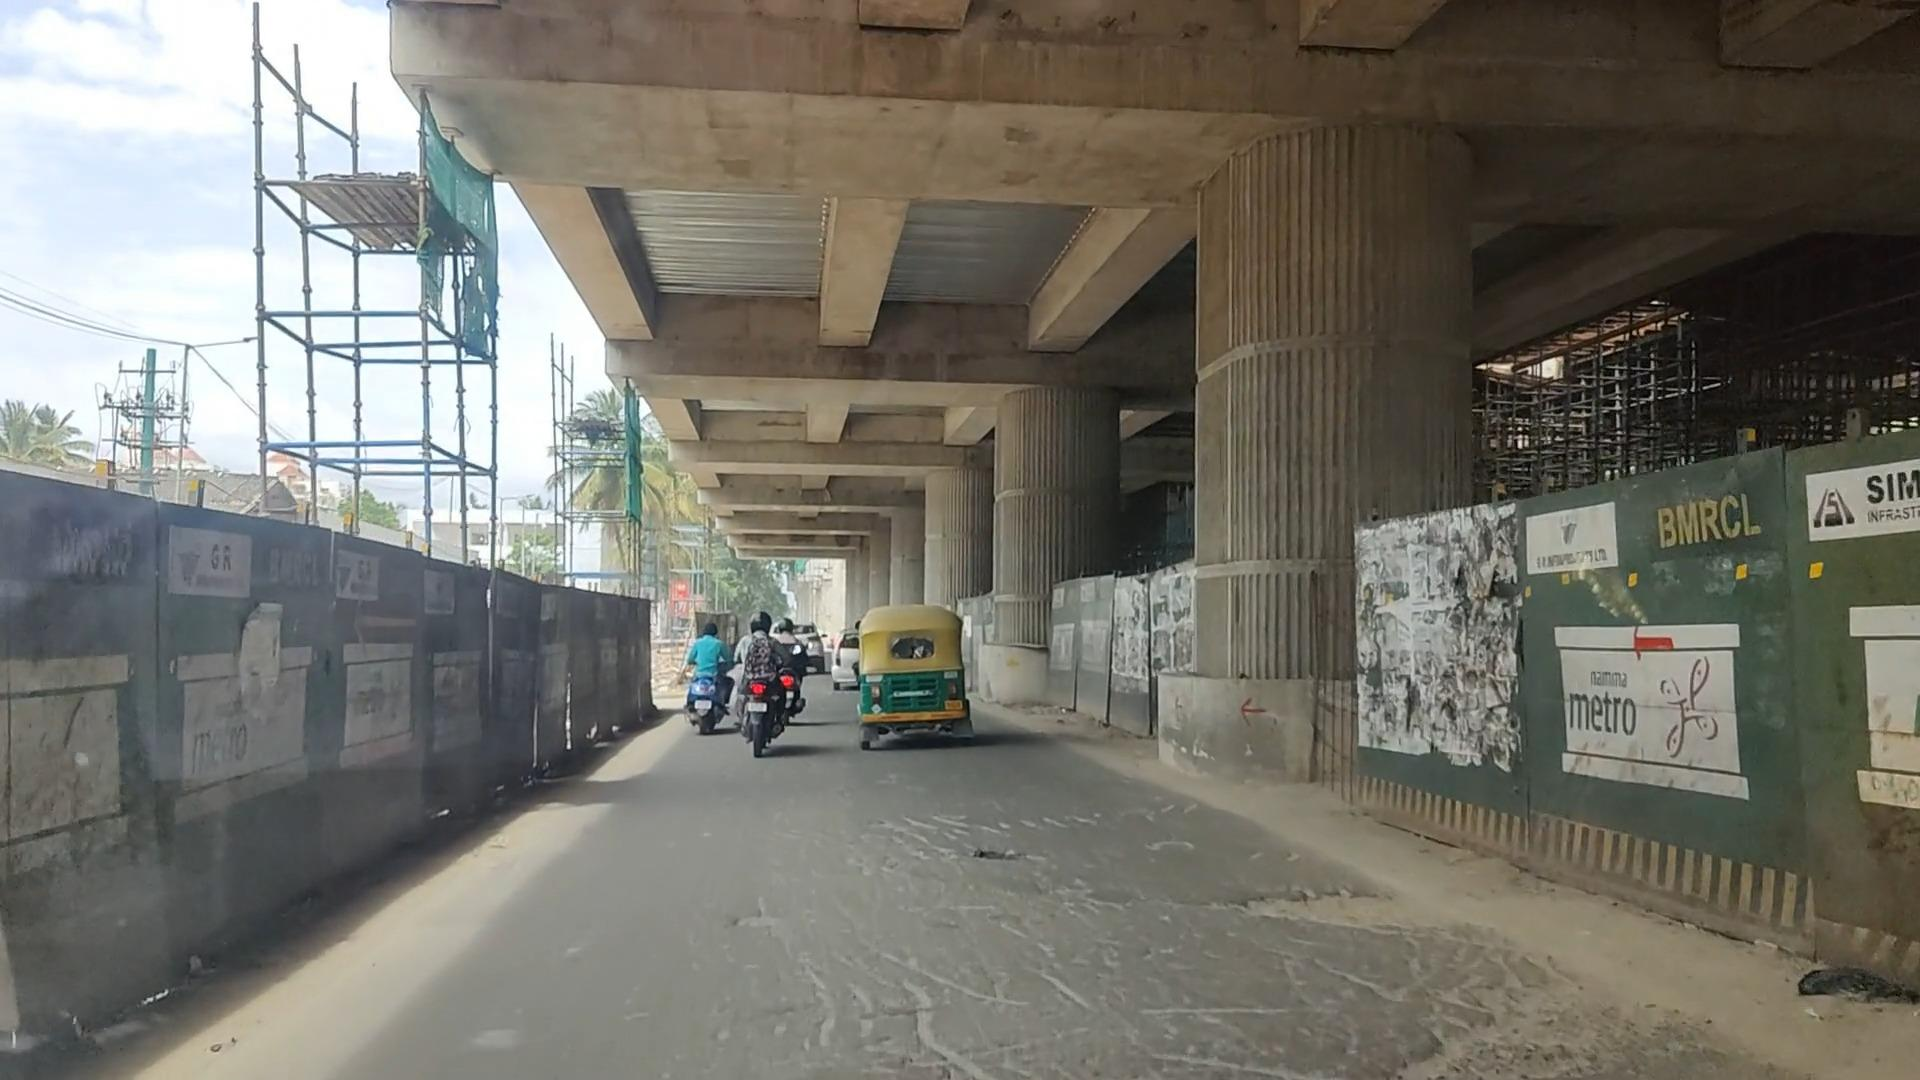LMV: (835, 590, 972, 790), (718, 598, 787, 779)
RoadDamages: (631, 900, 1566, 1080), (727, 788, 1308, 918)
